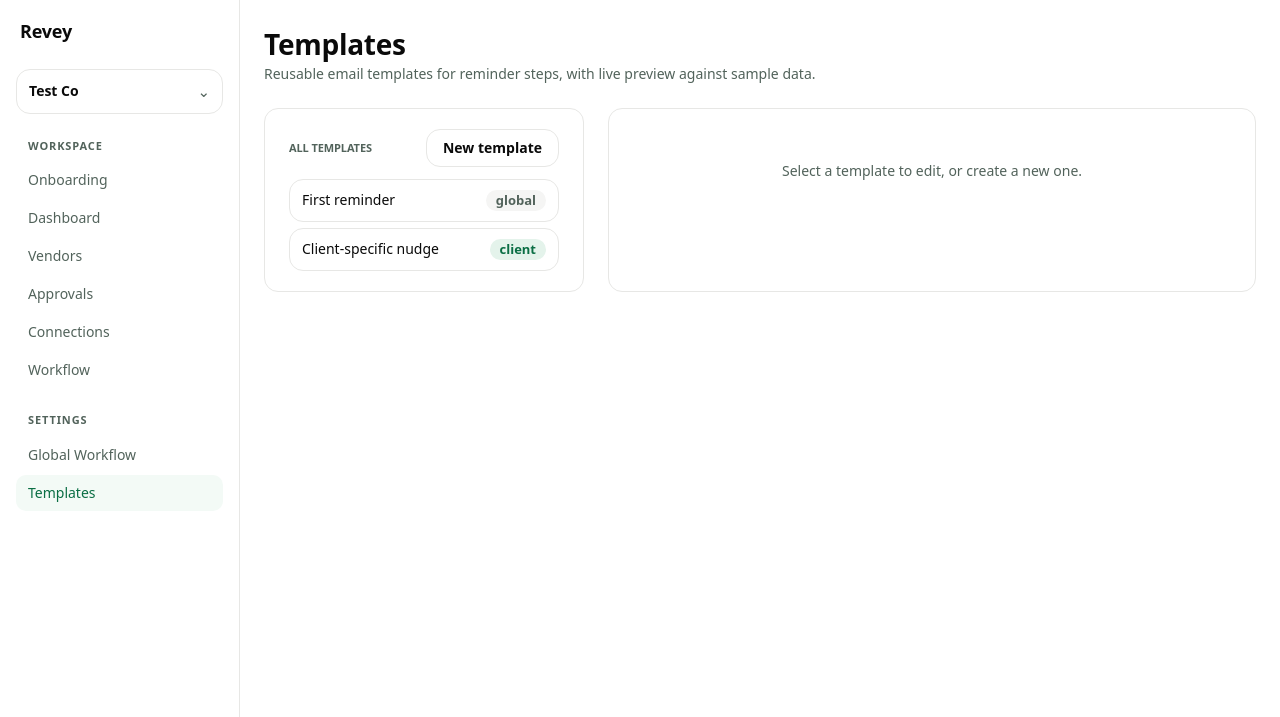
Test: TemplatesPage (settings) › shows a live preview containing the sample debtor name after selecting a template
What coordinates should you click on to do the following:
click the text "First reminder"
I would click on:
 (349, 200)
Its box is [302,190,395,210].
(page scrolled)
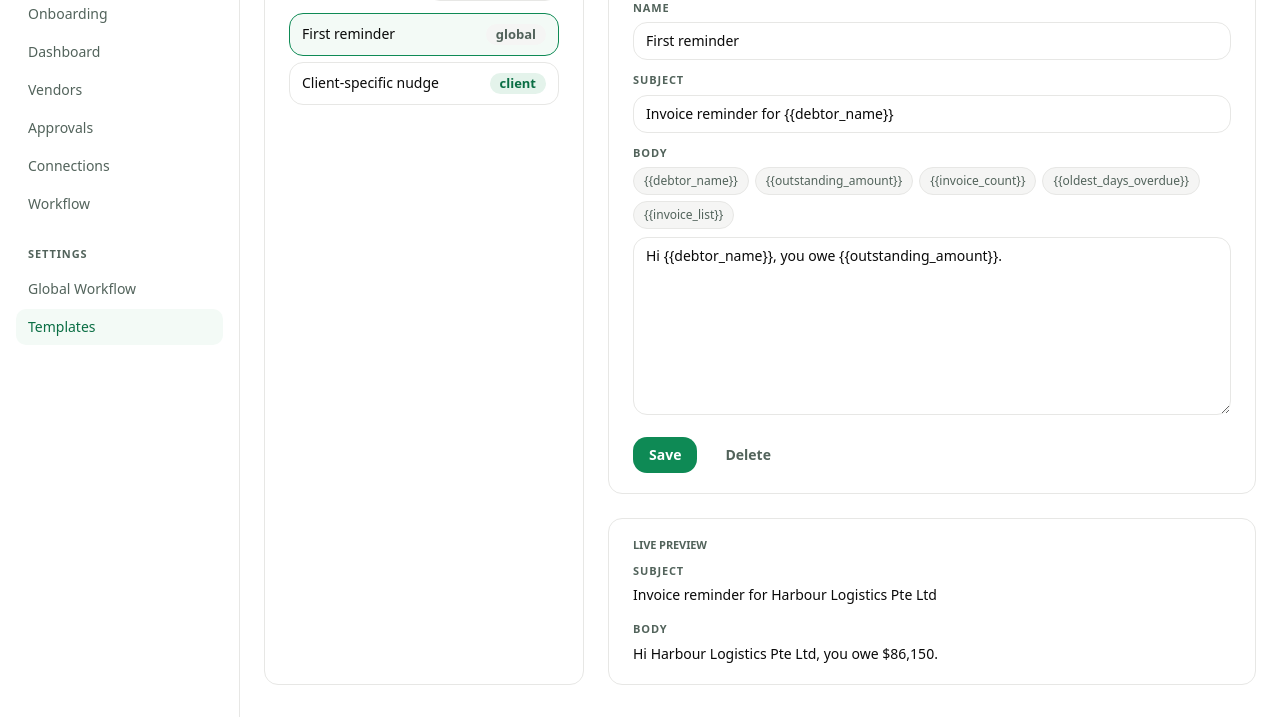
Now the text "Invoice reminder for Harbour Logistics Pte Ltd" is shown, box [633,585,937,604]
